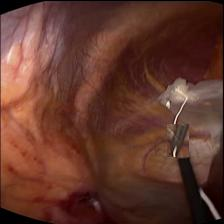Grasper: (167, 123, 189, 156)
Specimen Bag: (151, 72, 224, 124)
